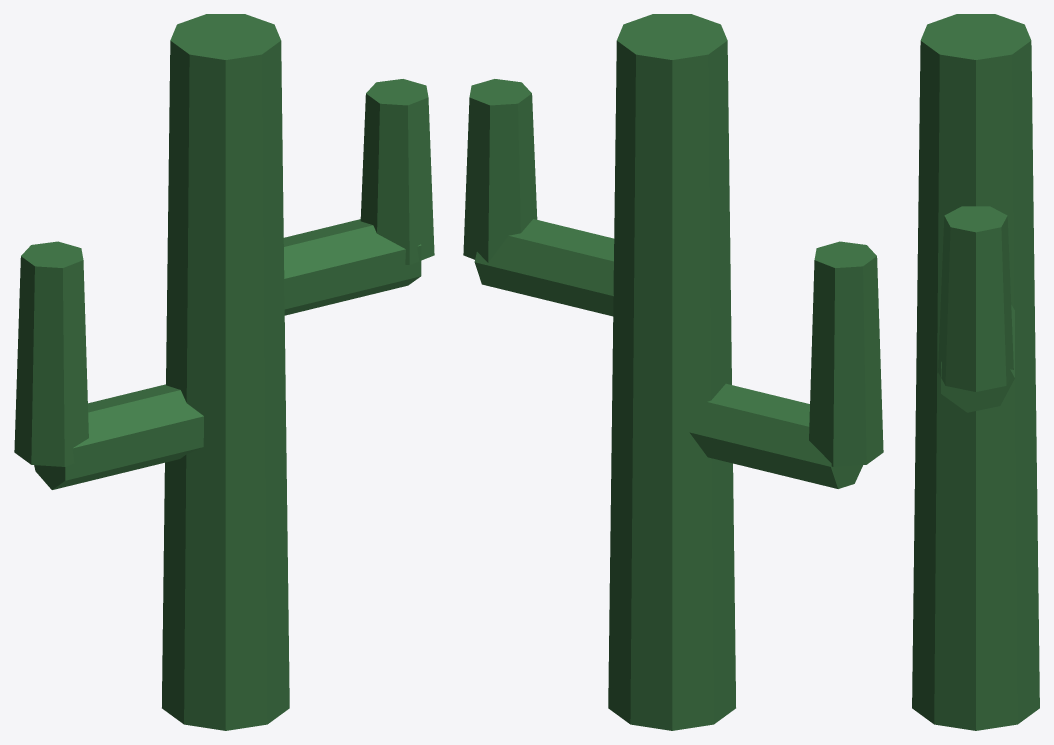
Rendered from cactus.glb.
3 views of the same model, side by side, from view 1: azimuth 30°, elevation 25°; view 2: azimuth 150°, elevation 25°; view 3: azimuth 270°, elevation 25° (orthographic).
Visible parts, largest first — view 1: Cactus; view 2: Cactus; view 3: Cactus.
Part boxes in pixels (bbox=[...]): Cactus: bbox=[14, 14, 434, 730]; Cactus: bbox=[463, 14, 883, 730]; Cactus: bbox=[912, 14, 1039, 730].
Bounding box in the file's own units: 2.18 × 3.4 × 0.5909.
